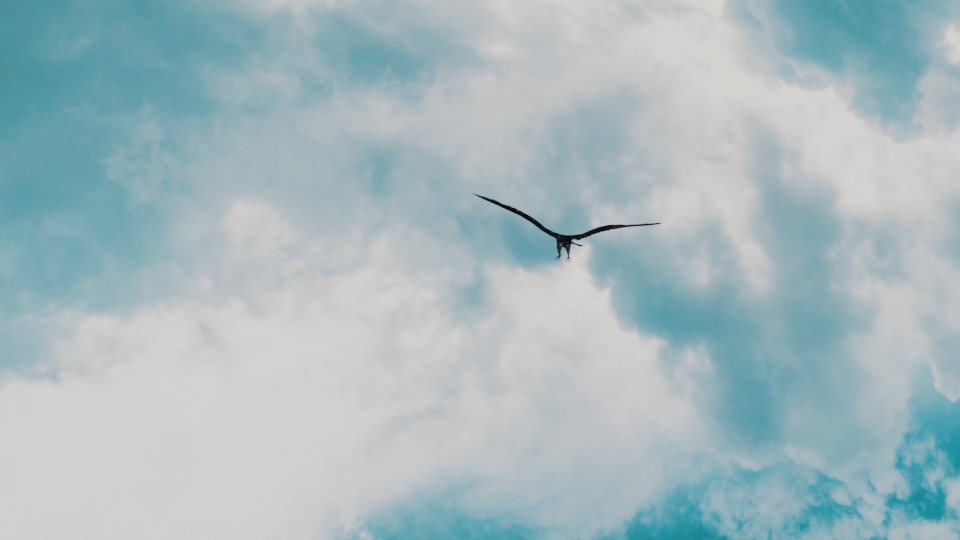bird: (474, 192, 661, 260)
